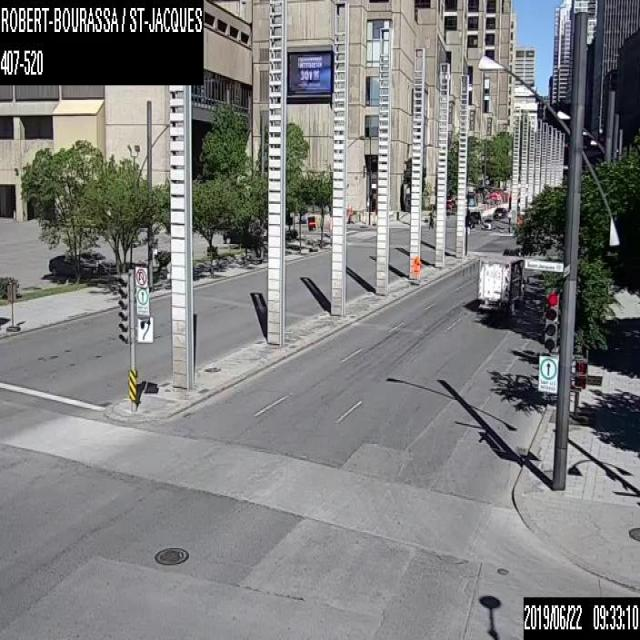construction: (411, 255, 420, 276)
pedestrian: (426, 212, 434, 231)
vehicle: (476, 246, 524, 314), (48, 253, 97, 280), (77, 251, 118, 272), (223, 228, 264, 246), (492, 206, 507, 218), (481, 218, 495, 230), (470, 210, 480, 223), (465, 214, 474, 227)
